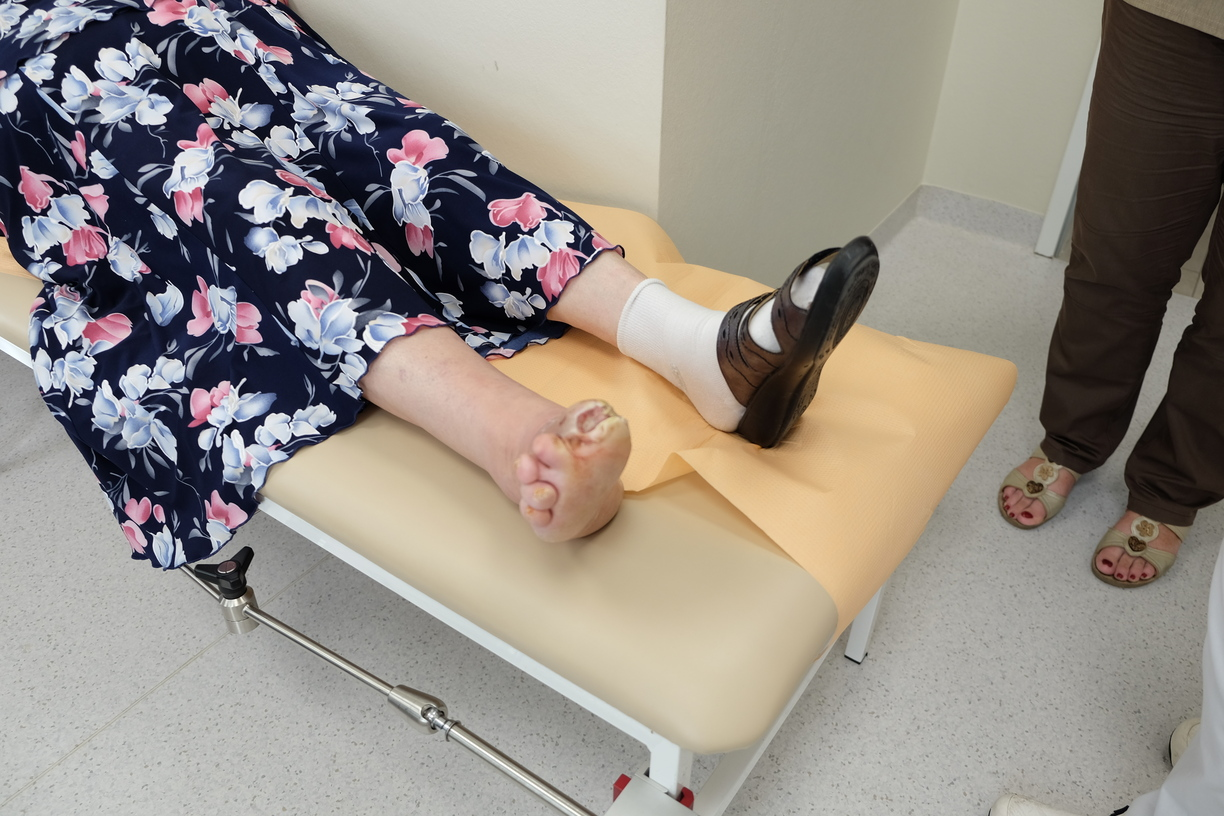wound: (567, 397, 626, 441)
